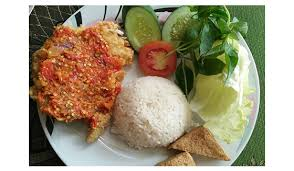ayam_geprek: (30, 20, 130, 140)
